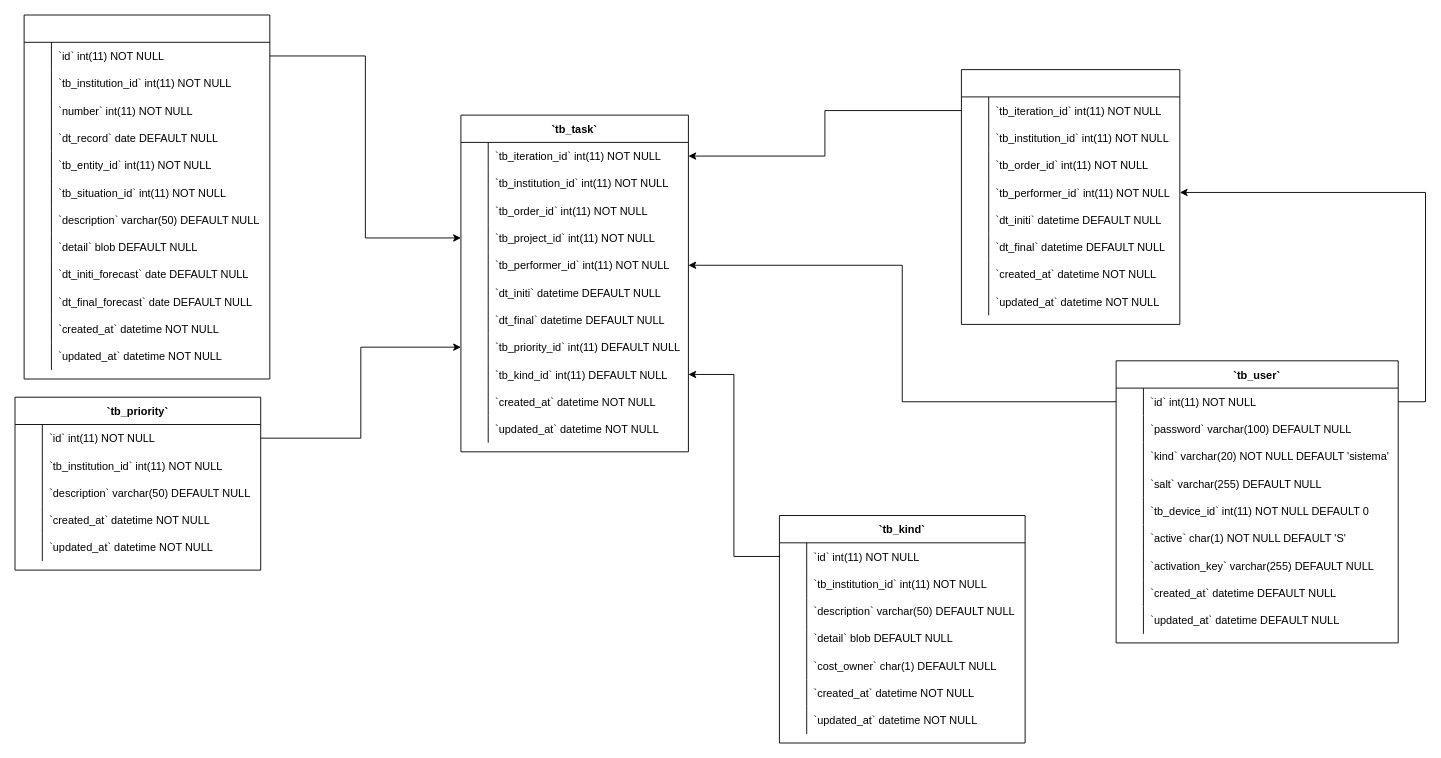
Image size: 1441x758. Some labels were removed from this diagram. Here are the shapes that lost their labels. From the top down, the box of each, then its label:
(23, 14, 270, 379): `tb_project`
(961, 69, 1180, 324): `tb_progress`
